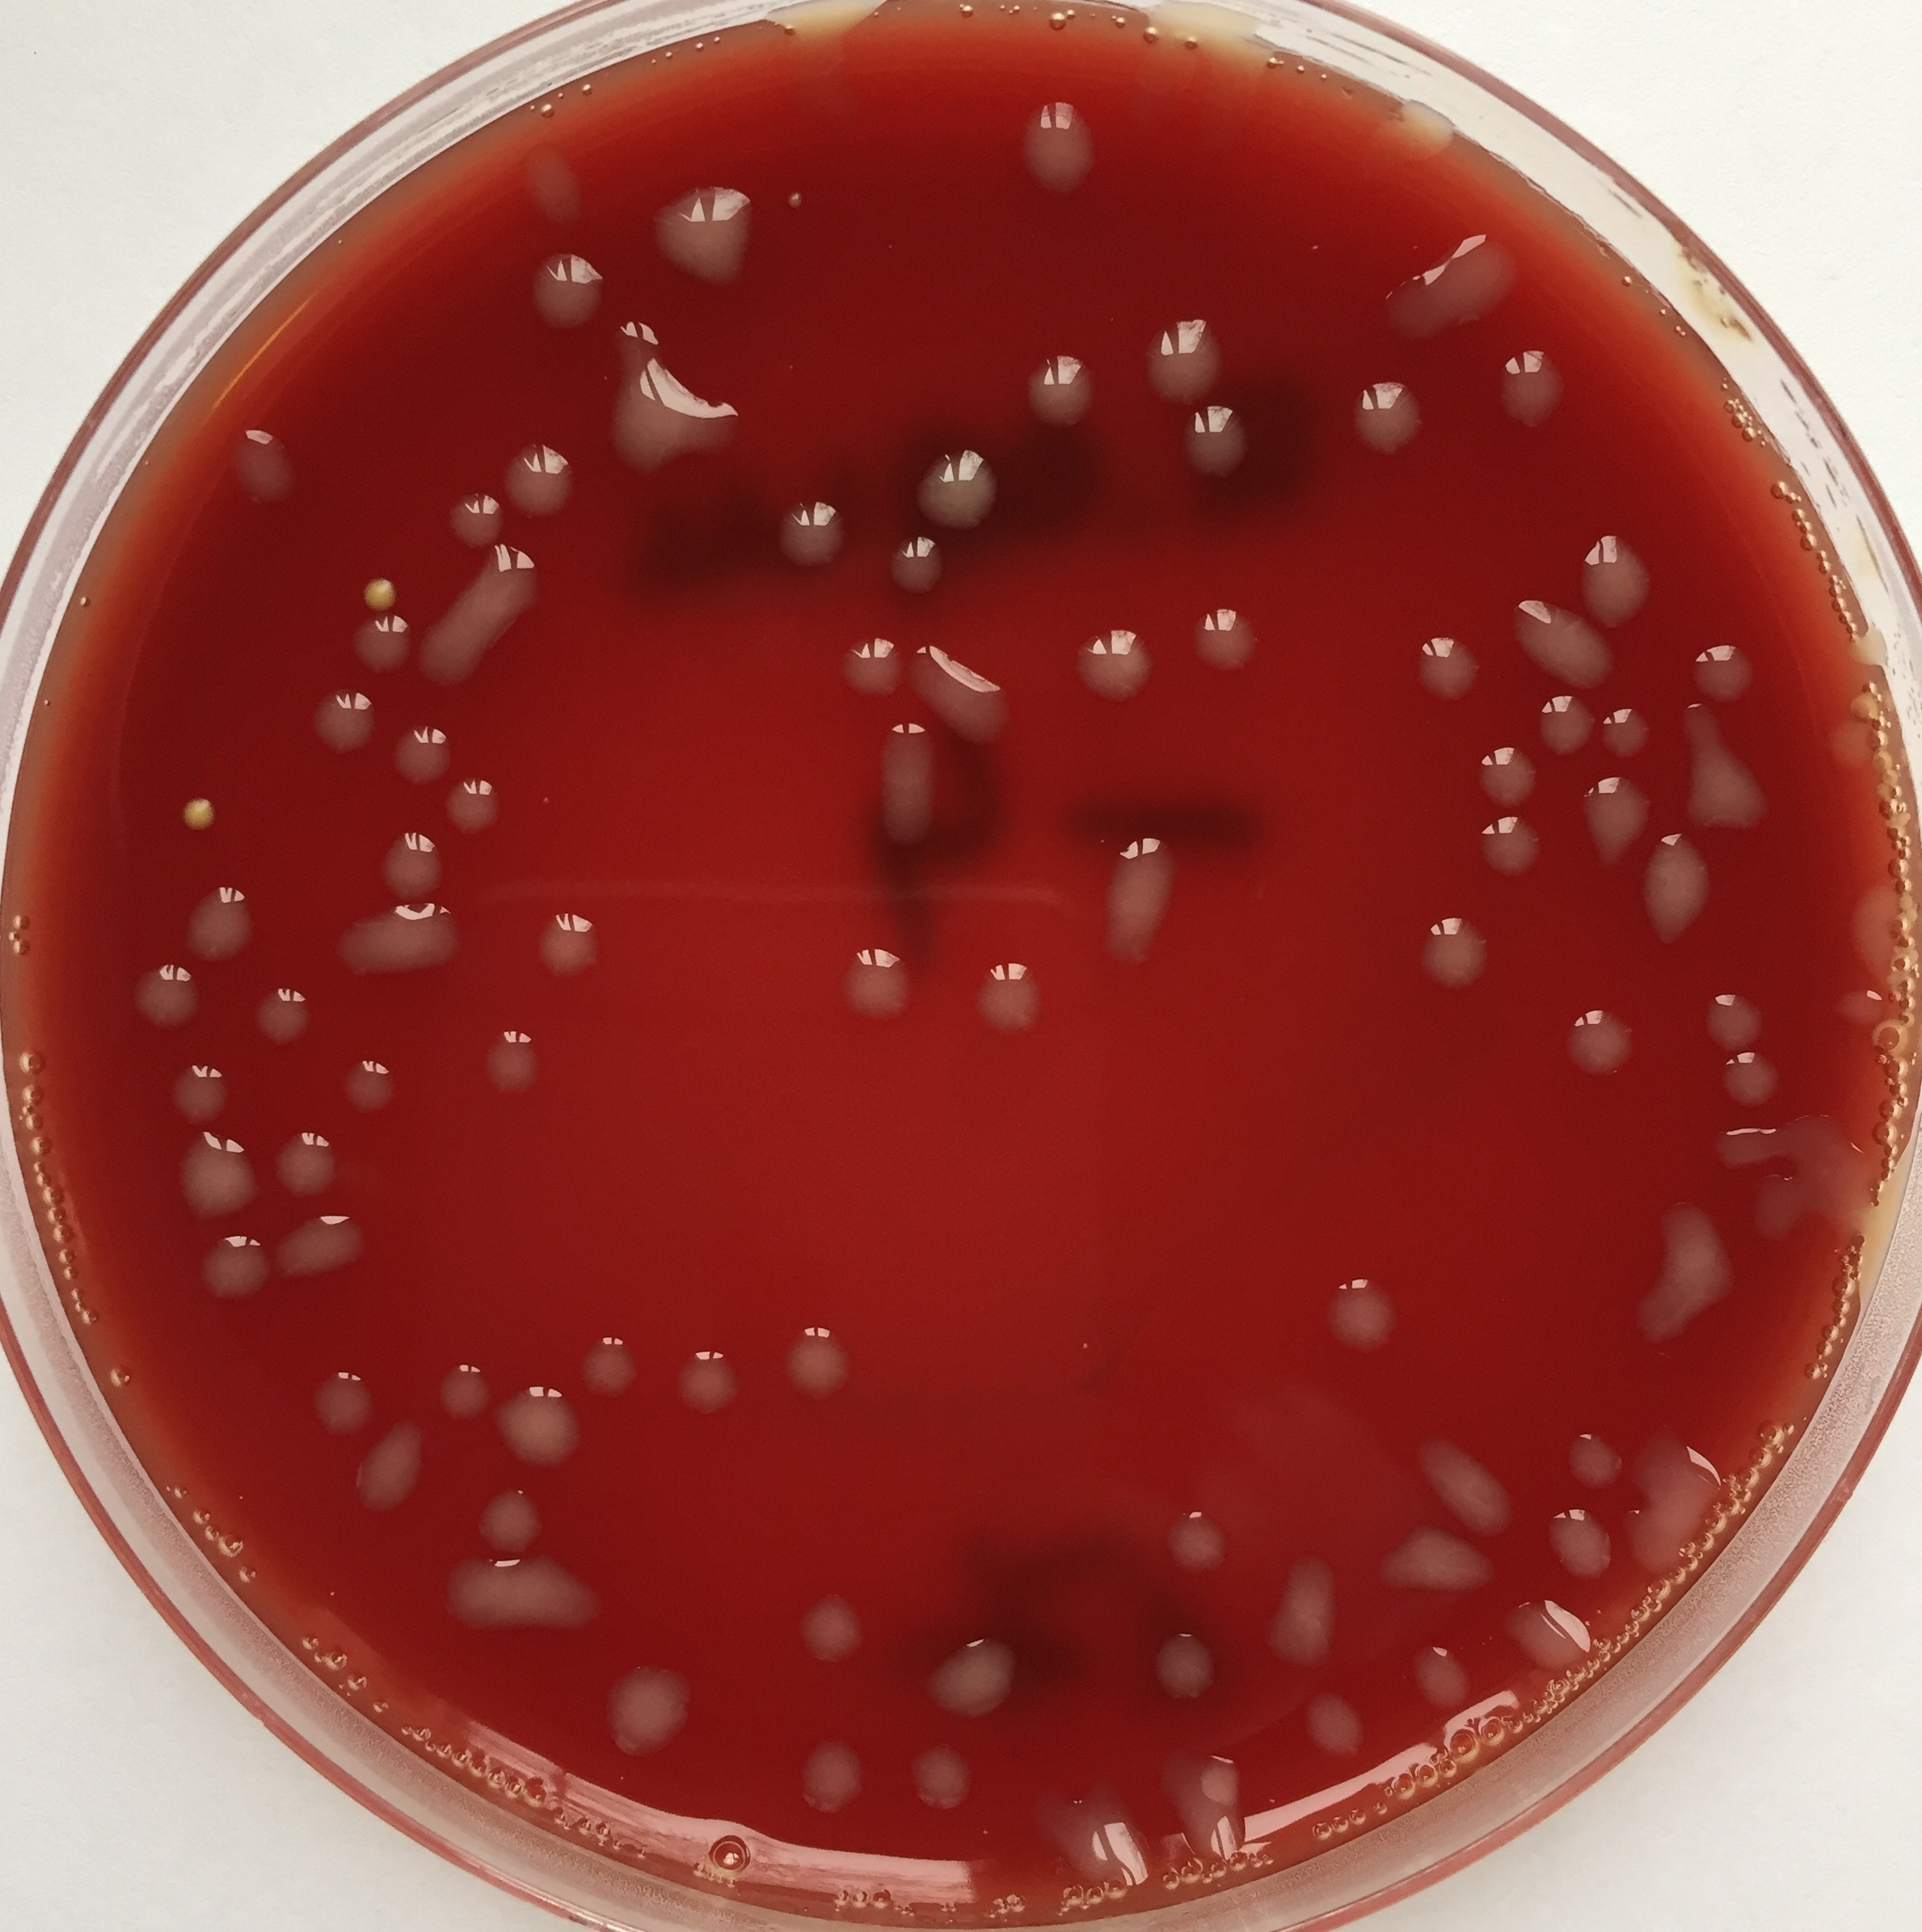sp19: (604, 322, 773, 489), (412, 544, 551, 702), (1603, 1195, 1742, 1343), (1373, 216, 1521, 333), (649, 167, 776, 301), (1095, 809, 1188, 987), (1163, 1744, 1276, 1881), (910, 1610, 1044, 1723), (438, 1566, 616, 1650), (1688, 713, 1794, 839), (912, 626, 1021, 737), (1250, 1547, 1353, 1663), (1491, 336, 1598, 443), (604, 1666, 706, 1779), (868, 713, 947, 857), (1501, 593, 1616, 692), (898, 435, 1021, 524), (838, 926, 931, 1042), (275, 1205, 382, 1306), (1042, 1784, 1141, 1893), (1486, 1596, 1605, 1684), (171, 1123, 273, 1225), (1581, 509, 1665, 626), (1412, 1434, 1510, 1534), (521, 899, 625, 994), (356, 903, 461, 996), (1177, 408, 1276, 507), (783, 1733, 882, 1832), (1012, 88, 1109, 188), (1723, 1112, 1853, 1186), (1630, 839, 1714, 952), (1554, 998, 1647, 1096), (1019, 345, 1100, 454), (348, 1422, 435, 1524), (1412, 903, 1494, 1008), (1397, 612, 1475, 725), (1373, 79, 1464, 174), (227, 405, 319, 500), (174, 875, 264, 970), (1177, 584, 1264, 683), (1133, 297, 1220, 396), (1378, 1533, 1501, 1601), (757, 0, 889, 63), (525, 239, 611, 336), (502, 1383, 586, 1482), (963, 943, 1042, 1043), (1341, 368, 1422, 465), (1074, 616, 1160, 706), (781, 1594, 871, 1680), (510, 137, 600, 222), (151, 1047, 245, 1128), (783, 1314, 862, 1409), (1674, 632, 1769, 711), (567, 1323, 653, 1409), (1158, 1487, 1234, 1580), (1540, 1506, 1623, 1591), (901, 1744, 980, 1832), (781, 484, 850, 584), (183, 1230, 264, 1314), (472, 1483, 560, 1561), (496, 431, 577, 514), (1322, 1263, 1392, 1358), (1524, 686, 1603, 771), (338, 1049, 408, 1142), (269, 1126, 352, 1205), (1302, 1700, 1385, 1779), (299, 686, 387, 760), (1566, 774, 1646, 853), (116, 962, 201, 1036), (674, 1334, 748, 1413), (1406, 1635, 1480, 1714), (1464, 809, 1544, 883), (1628, 1504, 1695, 1591), (1658, 1429, 1718, 1522), (368, 823, 456, 887), (442, 762, 510, 841), (306, 1355, 371, 1438), (475, 1022, 546, 1096), (253, 978, 324, 1052), (1148, 1629, 1216, 1705), (1470, 727, 1533, 808), (831, 632, 903, 702), (1841, 880, 1906, 955), (1554, 1418, 1623, 1487), (1714, 1061, 1792, 1121), (389, 725, 456, 790), (887, 524, 947, 596), (1707, 977, 1767, 1049), (1589, 697, 1654, 762), (356, 607, 415, 676), (435, 1360, 500, 1420), (1841, 962, 1880, 1038), (1832, 720, 1880, 778), (452, 489, 505, 535), (1850, 619, 1892, 672)
